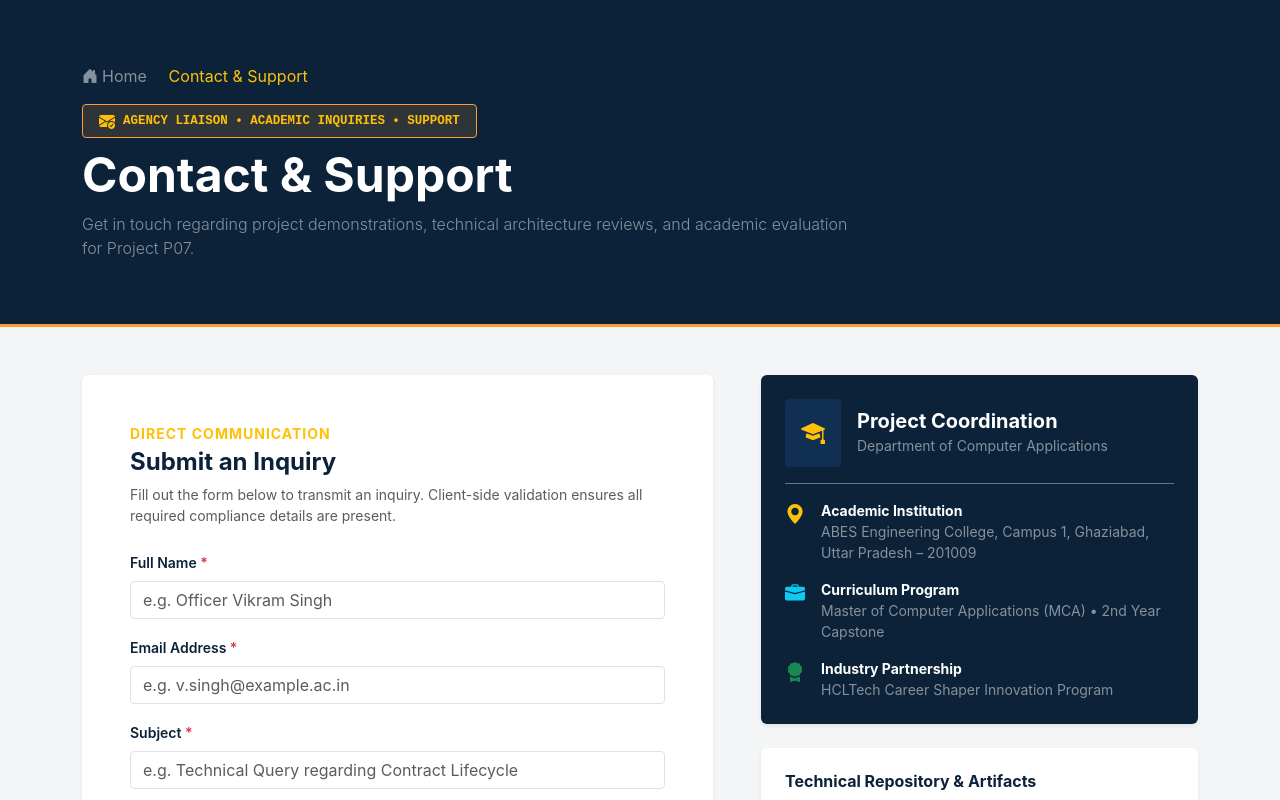
Test: Phase 2 — Public Website and Branding Tests › Contact Page Form Validation › validates email format and minimum message length
This screenshot has width=1280, height=800.
Type "Officer Vikram Singh" into the field with placeholder "e.g. Officer Vikram Singh" at (398, 600), box [130,581,665,619]
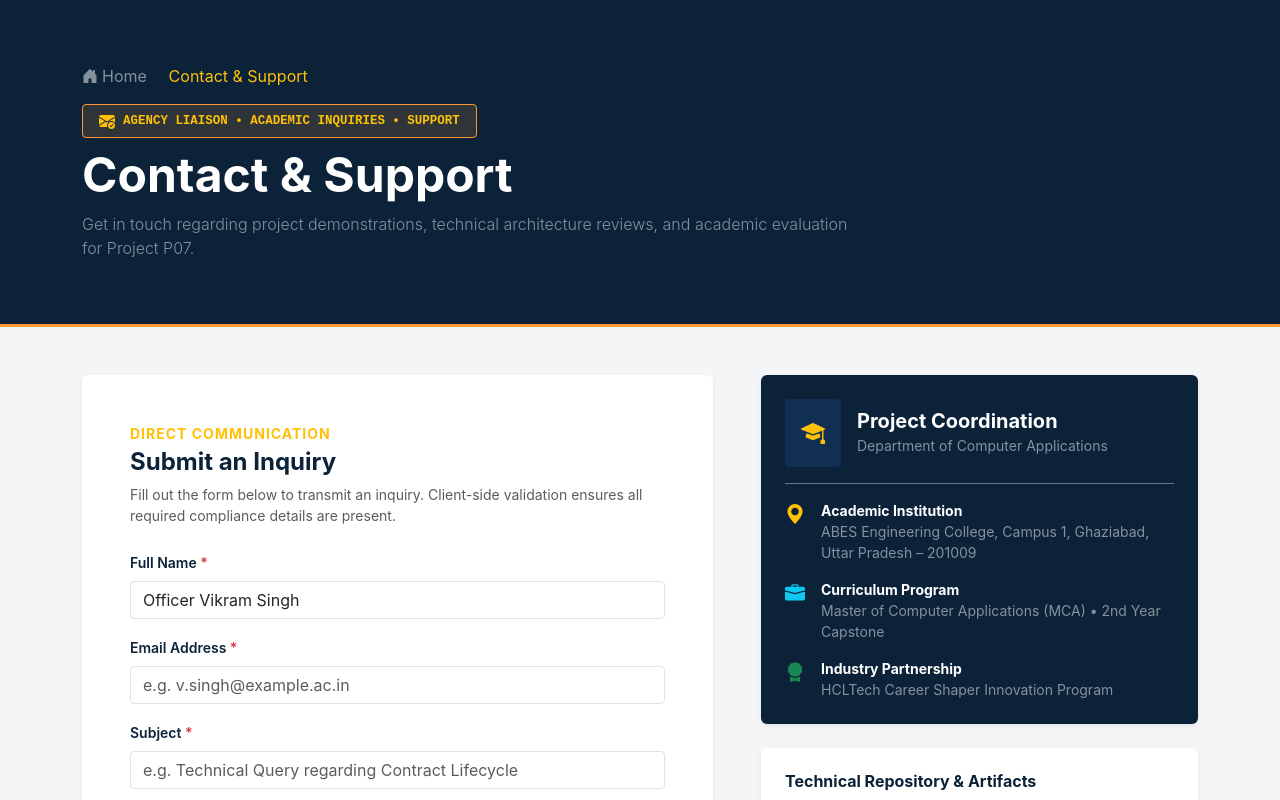
Type "invalid-email-format" into the field with placeholder "e.g. v.singh@example.ac.in" at (398, 685), box [130,666,665,704]
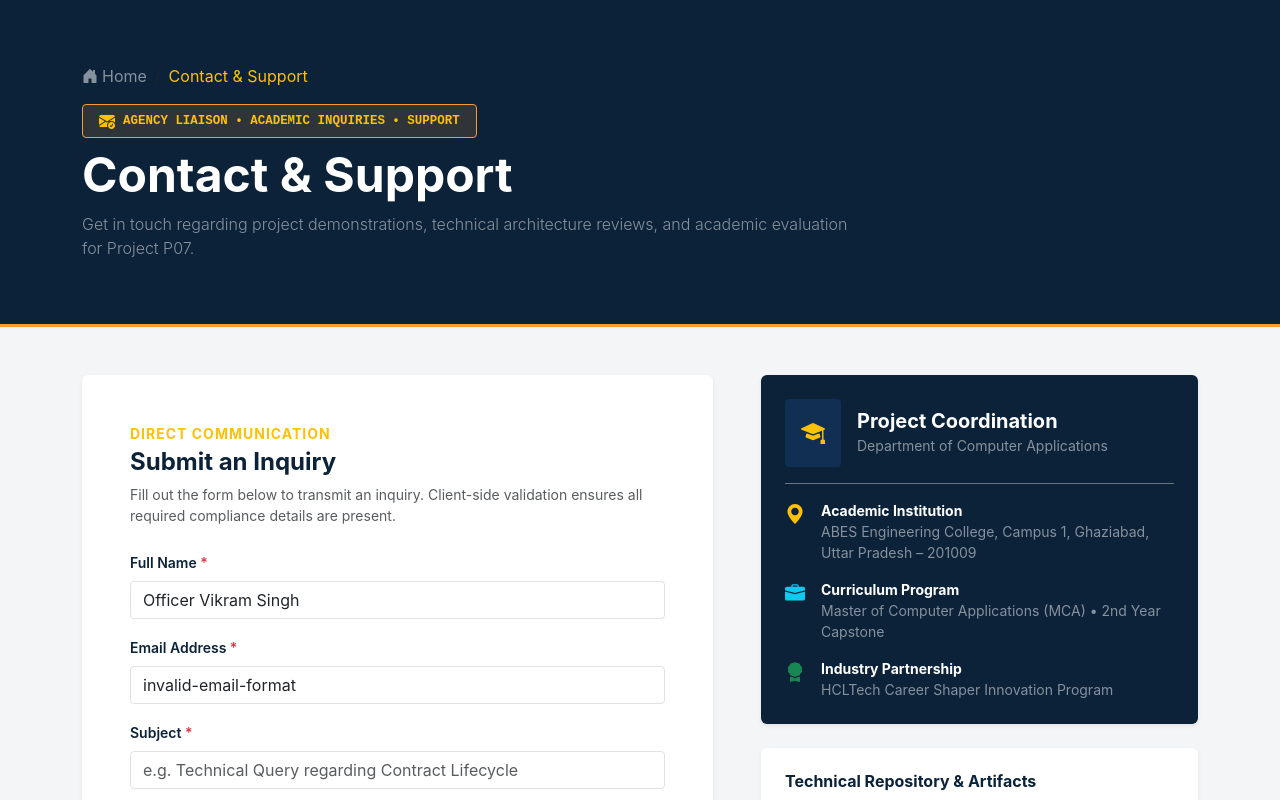
Type "Contract Inquiry" into the field with placeholder "e.g. Technical Query regarding Contract Lifecycle" at (398, 770), box [130,751,665,789]
(page scrolled)
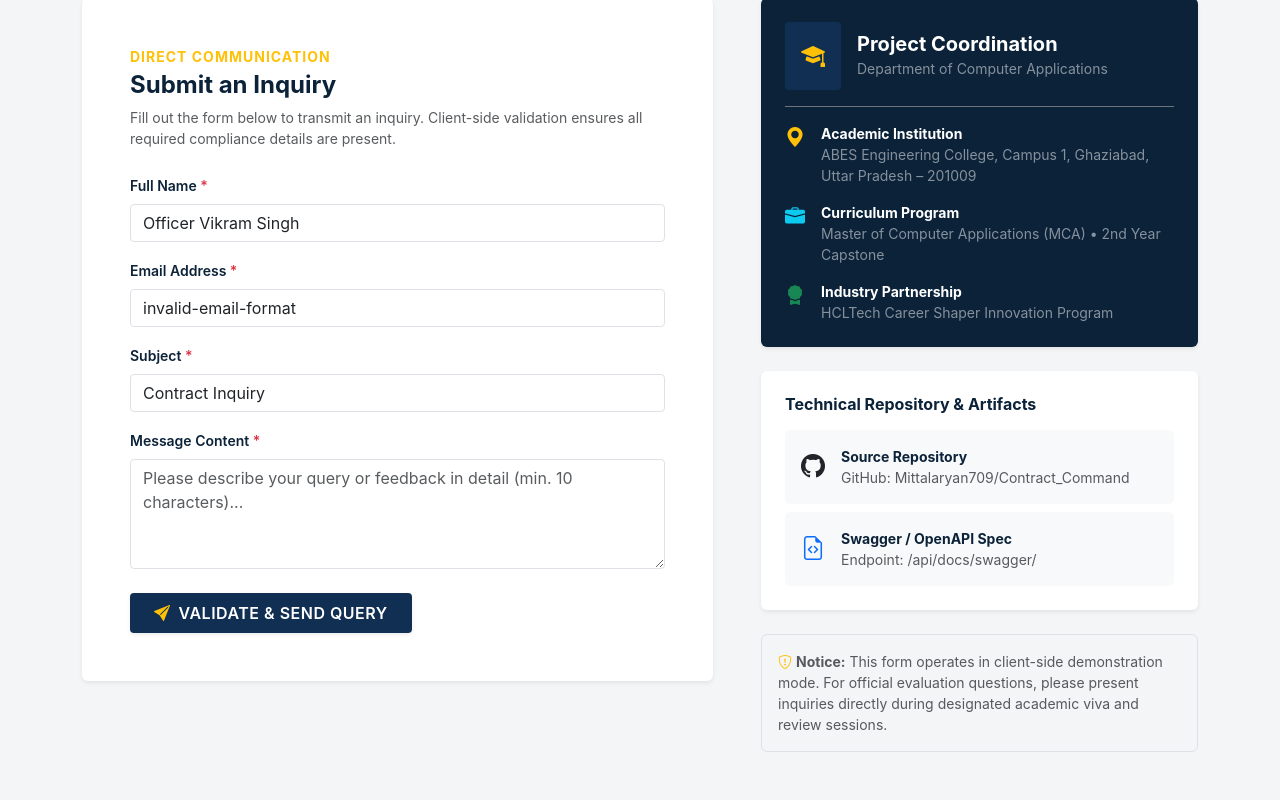
Replace the text in the text box with placeholder "Please describe your query" with "short" at (398, 514), box [130,459,665,569]
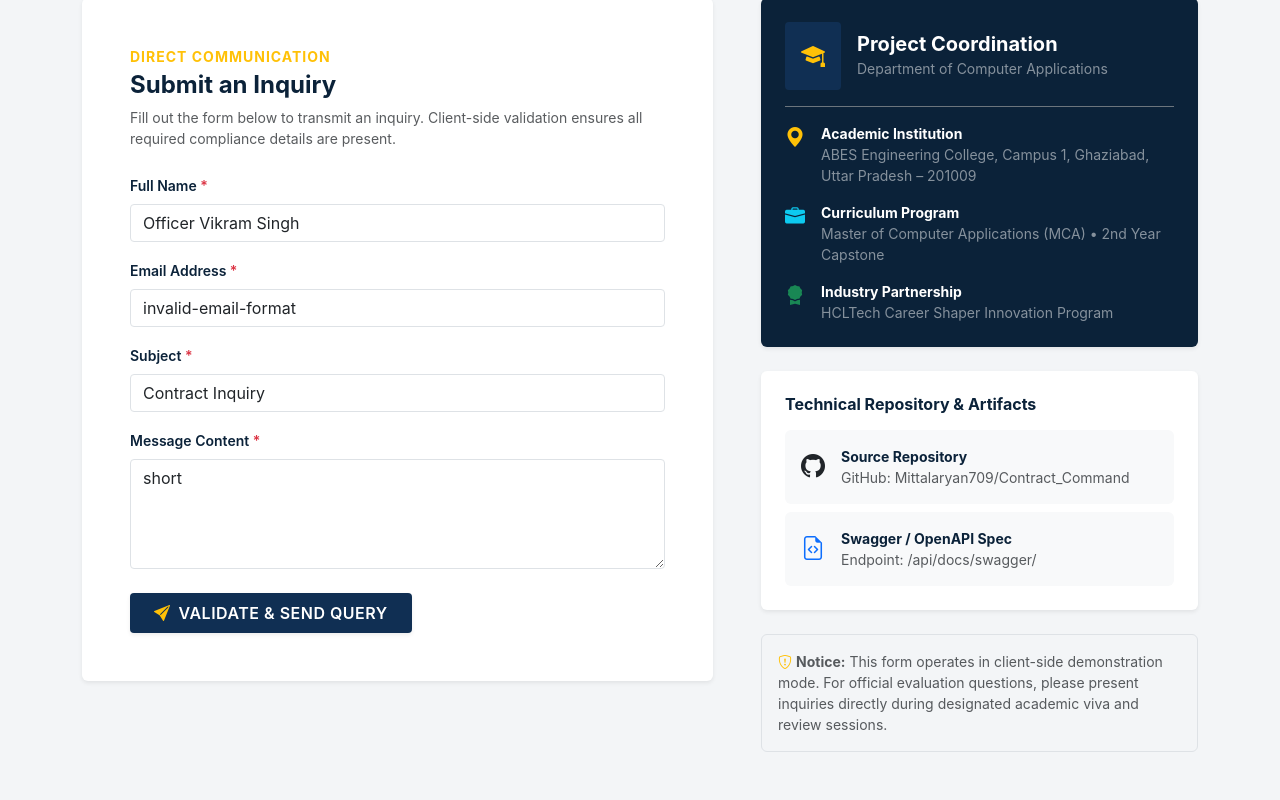
Click the button "Validate & Send Query" at (271, 613), box [130,593,412,633]
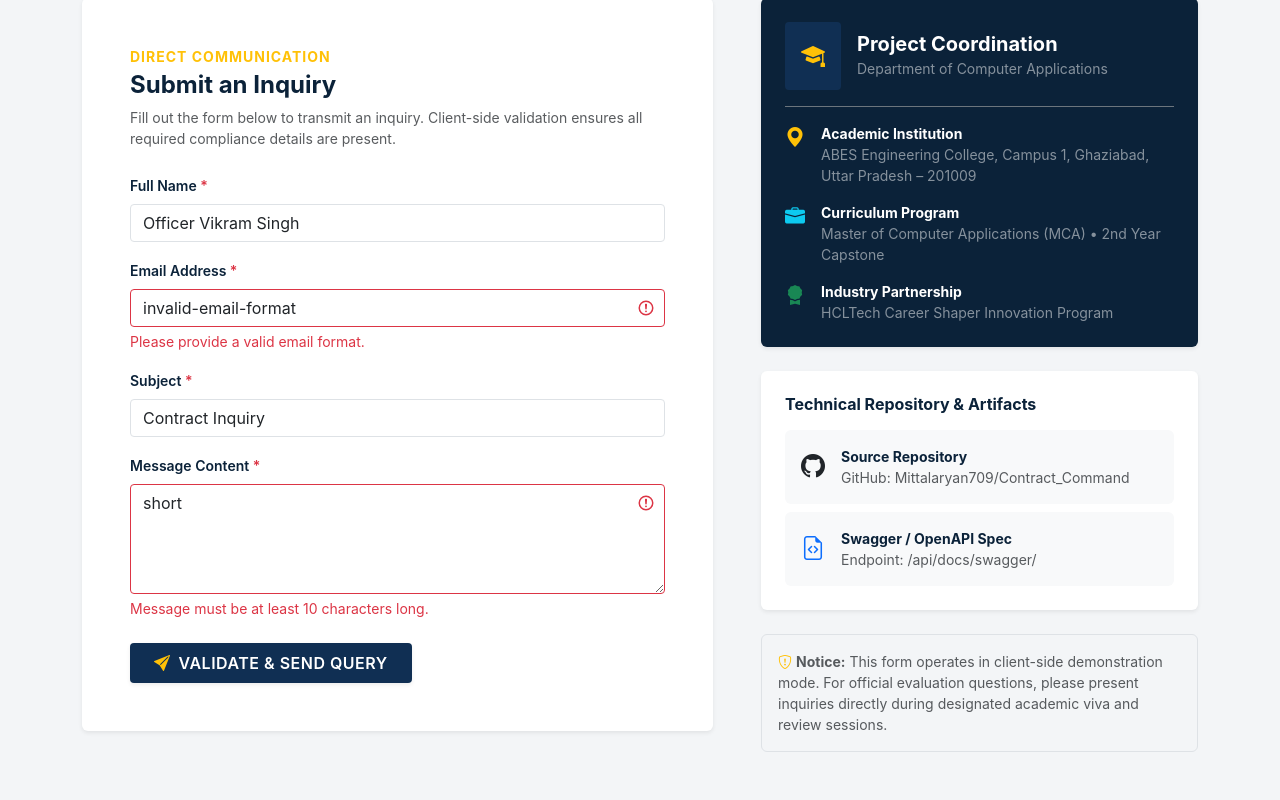
Now the text "Please provide a valid email format." is shown, box [130,333,365,350]
Now the text "Message must be at least 10 characters long." is shown, box [130,600,429,617]
